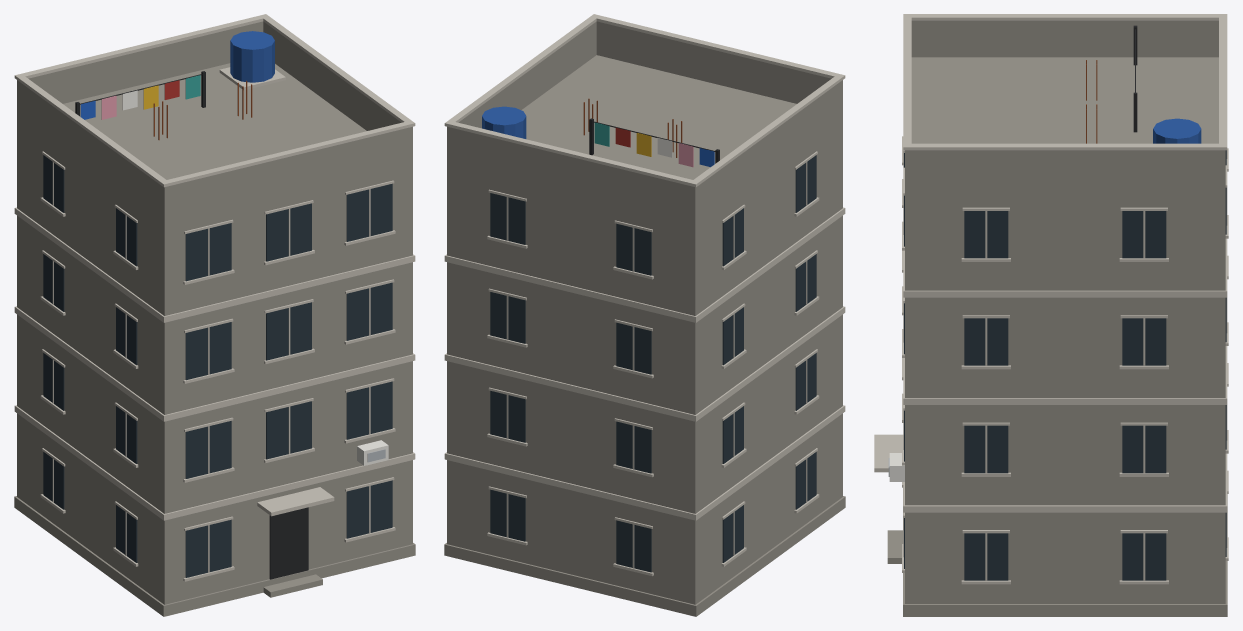
File: BAY_F_Tower_J.glb
3 views of the same model, side by side, from view 1: azimuth 30°, elevation 25°; view 2: azimuth 150°, elevation 25°; view 3: azimuth 270°, elevation 25° (orthographic). The views are drawn at different scales.
Parts seen in each view (by area): view 1: BAY_F_Tower_J; view 2: BAY_F_Tower_J; view 3: BAY_F_Tower_J.
Part boxes in pixels (<box>): BAY_F_Tower_J: <box>14,14,415,616</box>; BAY_F_Tower_J: <box>444,14,845,616</box>; BAY_F_Tower_J: <box>874,14,1228,616</box>.
Bounding box in the file's own units: 7.24 × 11.8 × 8.07.
Materials: 1 (1 with a texture image).
